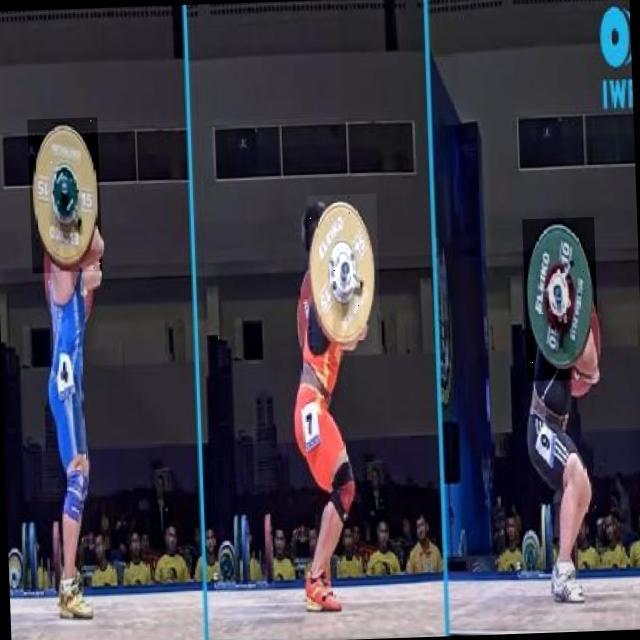barbell: (523, 217, 601, 382), (308, 194, 383, 357), (28, 118, 103, 274)
